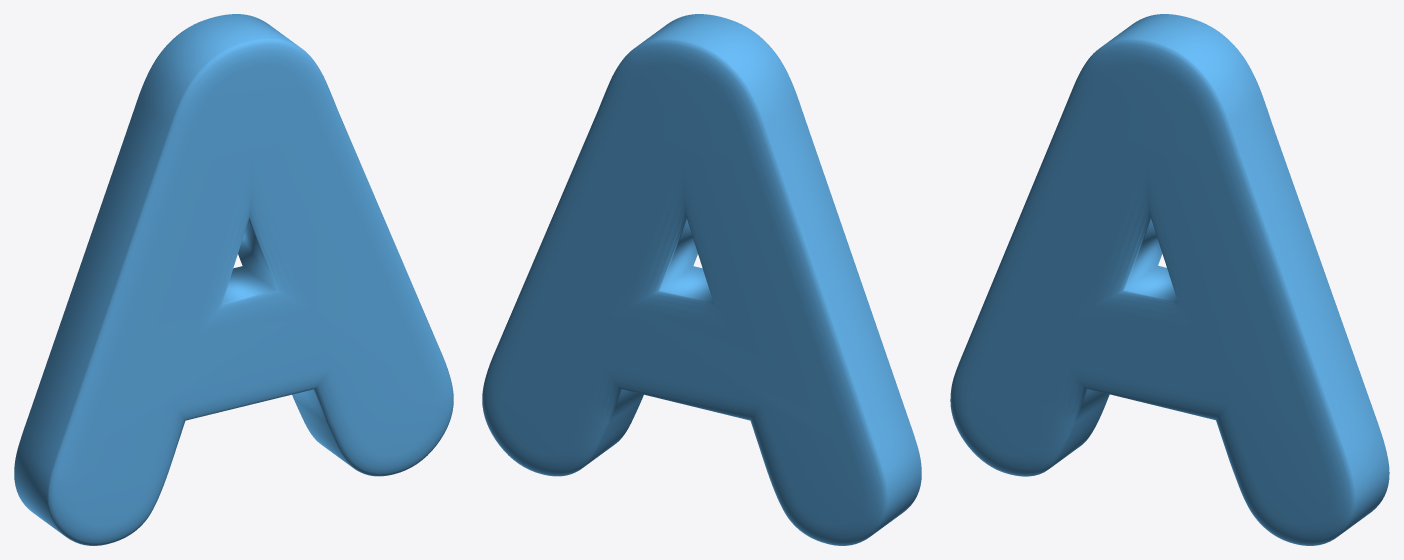
Rendered from RA_Letter_A.fbx.
3 views of the same model, side by side, from view 1: azimuth 30°, elevation 25°; view 2: azimuth 150°, elevation 25°; view 3: azimuth 330°, elevation 25° (orthographic).
Parts seen in each view (by area): view 1: RA_Letter_A; view 2: RA_Letter_A; view 3: RA_Letter_A.
Part boxes in pixels (x1,y1,x2,y2): RA_Letter_A: (14,14,453,545); RA_Letter_A: (482,14,921,545); RA_Letter_A: (950,14,1389,545).
Bounding box in the file's own units: 163 × 180 × 28.
